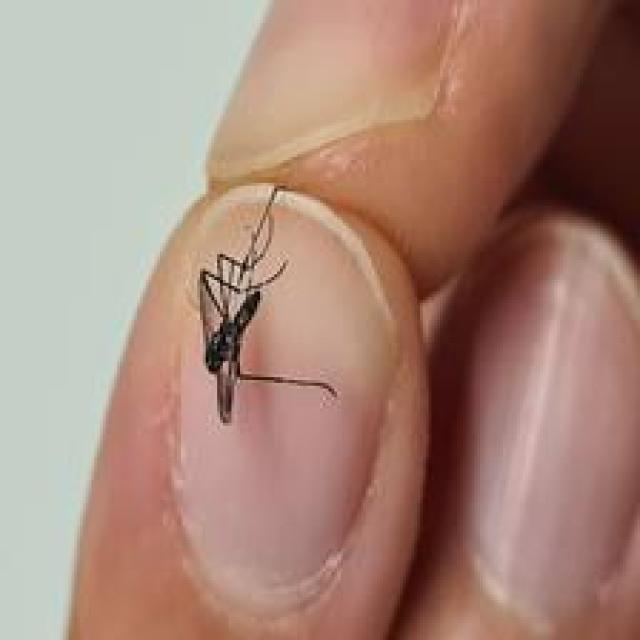Aedes albopictus: (195, 184, 338, 424)
